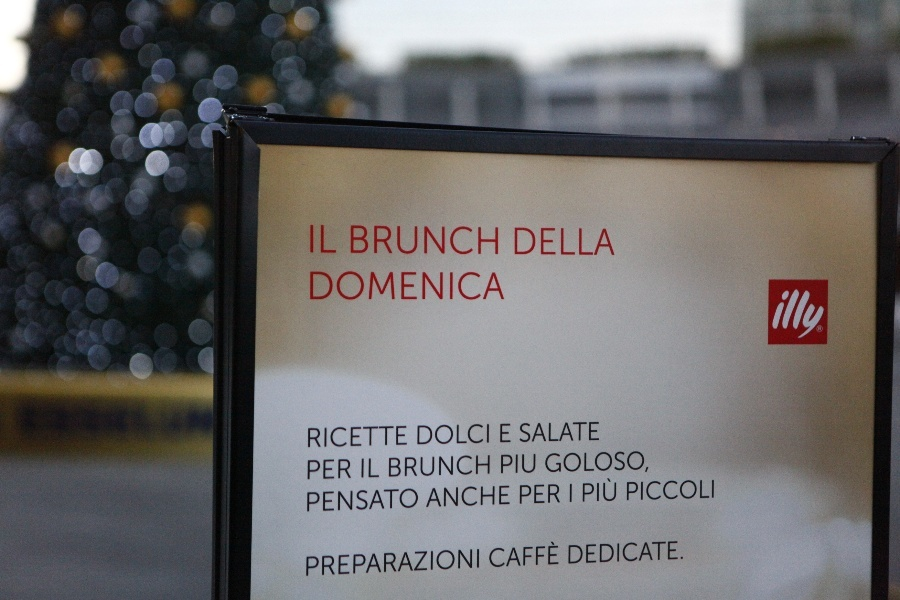text: (785, 290, 800, 343), (801, 290, 816, 343), (817, 290, 830, 343), (321, 225, 337, 254), (353, 225, 368, 254), (369, 225, 384, 254), (385, 225, 400, 254), (401, 225, 416, 254), (417, 225, 432, 254), (433, 225, 448, 254), (449, 225, 464, 254), (465, 225, 480, 254), (481, 225, 496, 254), (321, 271, 336, 300), (337, 271, 352, 300), (353, 271, 368, 300), (369, 271, 384, 300), (385, 271, 400, 300), (401, 271, 416, 300), (417, 271, 432, 300), (433, 271, 448, 300), (449, 271, 464, 300), (465, 271, 480, 300), (481, 271, 496, 300), (529, 227, 544, 256), (545, 227, 560, 256), (561, 227, 576, 256), (577, 227, 592, 256), (593, 227, 608, 256), (321, 548, 336, 577), (337, 548, 352, 577), (353, 548, 368, 577), (369, 548, 384, 577), (385, 548, 400, 577), (401, 548, 416, 577), (417, 548, 432, 577), (433, 548, 448, 577), (449, 548, 464, 577), (465, 548, 480, 577), (497, 541, 512, 568), (513, 541, 528, 568), (529, 541, 544, 568), (593, 476, 608, 502), (545, 541, 559, 568), (515, 227, 528, 256), (307, 548, 320, 577), (321, 488, 336, 512), (337, 488, 352, 512), (353, 488, 368, 512), (369, 488, 384, 512), (385, 488, 400, 512), (401, 488, 416, 512), (321, 426, 336, 449), (337, 426, 352, 449), (353, 426, 368, 449), (369, 426, 384, 449), (385, 426, 400, 449), (577, 541, 592, 564), (593, 541, 608, 564), (609, 541, 624, 564), (625, 541, 640, 564), (641, 541, 656, 564), (657, 541, 672, 564), (433, 423, 448, 445), (449, 423, 464, 445), (465, 423, 480, 445), (401, 455, 416, 477), (417, 455, 432, 477), (433, 455, 448, 477), (449, 455, 464, 477), (465, 455, 480, 477), (433, 486, 448, 508), (449, 486, 464, 508), (465, 486, 480, 508), (481, 486, 496, 508), (561, 451, 576, 473), (577, 451, 592, 473), (593, 451, 608, 473), (609, 451, 624, 473), (625, 451, 640, 473), (529, 421, 544, 442), (545, 421, 560, 442), (561, 421, 576, 442), (577, 421, 592, 442), (321, 459, 336, 480), (337, 459, 352, 480), (641, 480, 656, 501), (657, 480, 672, 501), (673, 480, 688, 501), (689, 480, 704, 501), (418, 423, 432, 445), (546, 451, 560, 473), (513, 454, 528, 474), (529, 484, 544, 504), (545, 484, 560, 504), (308, 488, 320, 512), (497, 486, 510, 508), (308, 426, 320, 449), (627, 480, 640, 501), (311, 225, 320, 254), (311, 271, 320, 300), (673, 541, 684, 564), (308, 459, 320, 480), (389, 455, 400, 477), (583, 476, 592, 502), (500, 424, 512, 443), (501, 454, 512, 474), (369, 458, 380, 478), (497, 271, 504, 300), (481, 423, 490, 445), (481, 455, 490, 477), (519, 421, 528, 442), (705, 480, 714, 501), (609, 476, 616, 502), (641, 451, 649, 473), (609, 227, 615, 256), (490, 541, 496, 568), (569, 541, 576, 564), (520, 484, 528, 504), (529, 454, 536, 474), (401, 426, 407, 449), (593, 421, 599, 442), (362, 458, 368, 478), (570, 483, 576, 503), (819, 327, 832, 331), (351, 225, 352, 254), (497, 225, 498, 254), (417, 488, 418, 512)
